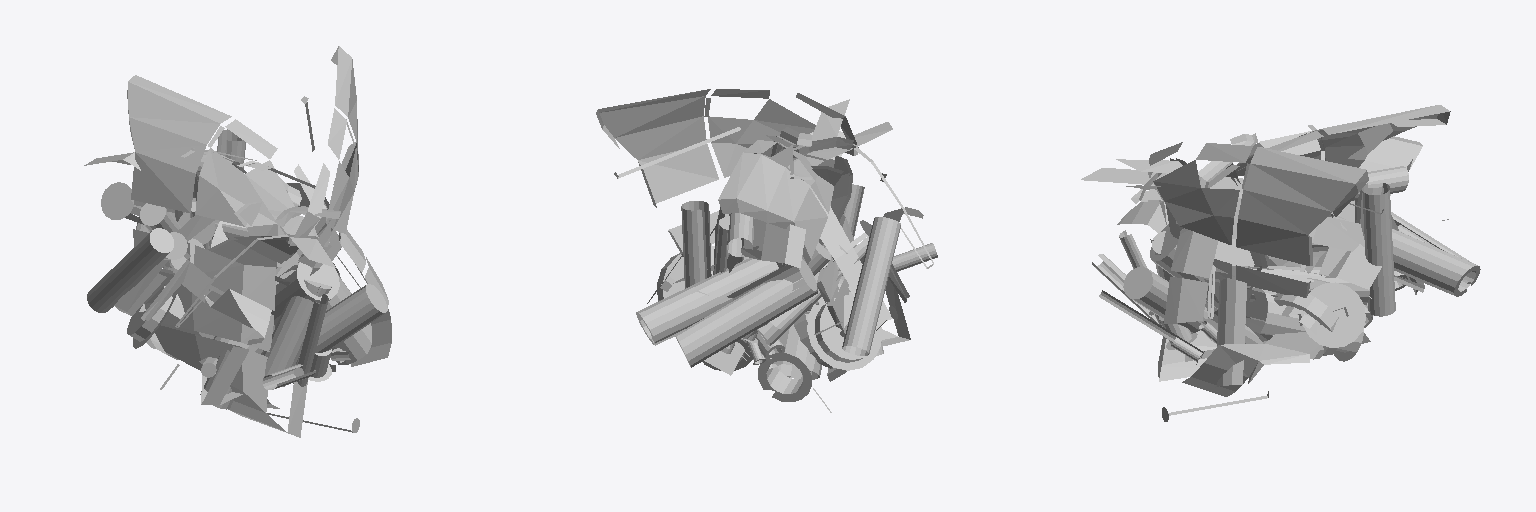
Rendered from MonsterA2_die7.obj.
The picture shows the model from 3 angles: view 1: azimuth 30°, elevation 25°; view 2: azimuth 150°, elevation 25°; view 3: azimuth 270°, elevation 25°; orthographic projection.
Parts seen in each view (by area): view 1: Box001; view 2: Box001; view 3: Box001.
Part boxes in pixels (left/top/right/bottom): Box001: left=84, top=46, right=391, bottom=437; Box001: left=596, top=89, right=937, bottom=412; Box001: left=1081, top=105, right=1480, bottom=421.
Bounding box in the file's own units: 201 × 212 × 261.